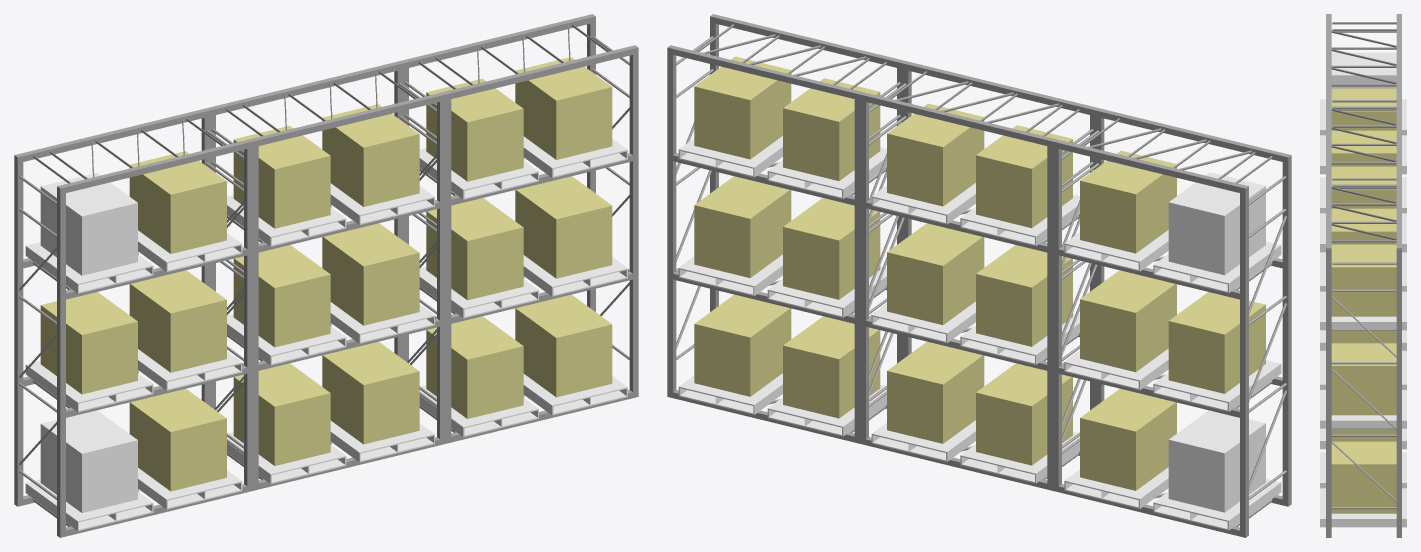
The model's file is rack_3d_1535.glb.
3 renders of one model, left to right at view 1: azimuth 30°, elevation 25°; view 2: azimuth 150°, elevation 25°; view 3: azimuth 270°, elevation 25°, orthographic. The views are drawn at different scales.
Visible parts, largest first — view 1: rack1, 18, 16, 10, 12, 14, 8, 13, 6, 4, 2, 7 (+7 smaller); view 2: rack1, 18, 16, 10, 12, 14, 8, 6, 4, 13, 7, 2 (+7 smaller); view 3: rack1, 6, 18, 12, 4, 2, 3, 5, 1, 11, 17.
Boxes of the visible parts, <box> form: rack1: <box>14,14,638,537</box>; 18: <box>515,294,612,397</box>; 16: <box>322,341,419,444</box>; 10: <box>322,223,419,325</box>; 12: <box>515,176,612,278</box>; 14: <box>129,388,226,491</box>; 8: <box>129,270,226,372</box>; 13: <box>40,410,137,512</box>; 6: <box>515,57,612,159</box>; 4: <box>322,104,419,206</box>; 2: <box>129,151,226,253</box>; 7: <box>40,292,137,394</box>; rack1: <box>667,14,1291,537</box>; 18: <box>694,294,791,396</box>; 16: <box>887,341,984,443</box>; 10: <box>887,223,984,324</box>; 12: <box>694,176,791,277</box>; 14: <box>1080,388,1176,490</box>; 8: <box>1080,270,1176,372</box>; 6: <box>694,56,791,159</box>; 4: <box>887,103,984,206</box>; 13: <box>1168,410,1265,512</box>; 7: <box>1168,292,1265,393</box>; 2: <box>1080,150,1176,253</box>; rack1: <box>1320,14,1406,537</box>; 6: <box>1331,244,1396,316</box>; 18: <box>1331,441,1396,513</box>; 12: <box>1331,343,1396,415</box>; 4: <box>1331,166,1396,208</box>; 2: <box>1331,88,1396,130</box>; 3: <box>1331,130,1396,166</box>; 5: <box>1331,208,1396,244</box>; 1: <box>1331,52,1396,88</box>; 11: <box>1331,330,1396,343</box>; 17: <box>1331,429,1396,441</box>.
Bounding box in the file's own units: 306 × 177 × 48.
